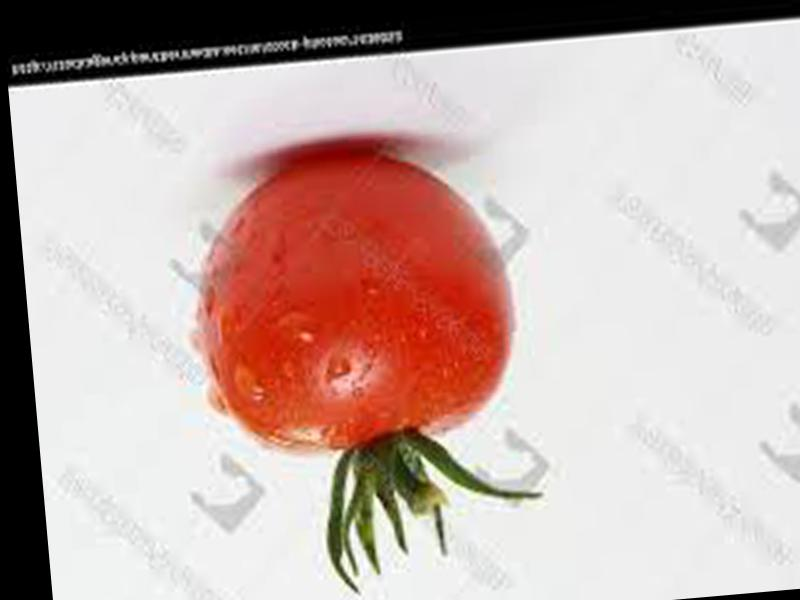Tomato: (192, 137, 524, 459)
